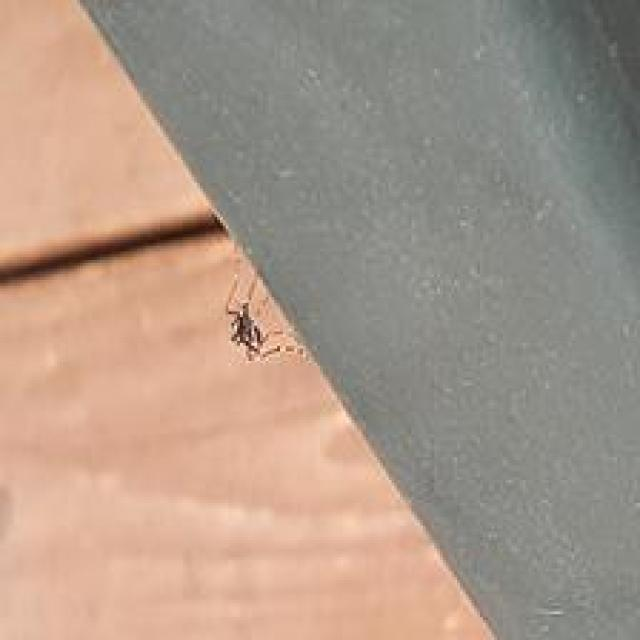Aedes albopictus: (223, 271, 303, 363)
